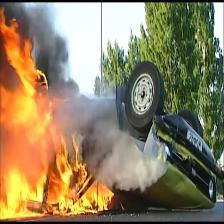fire: (0, 8, 127, 219)
smoke: (62, 81, 178, 199), (8, 1, 118, 96)
